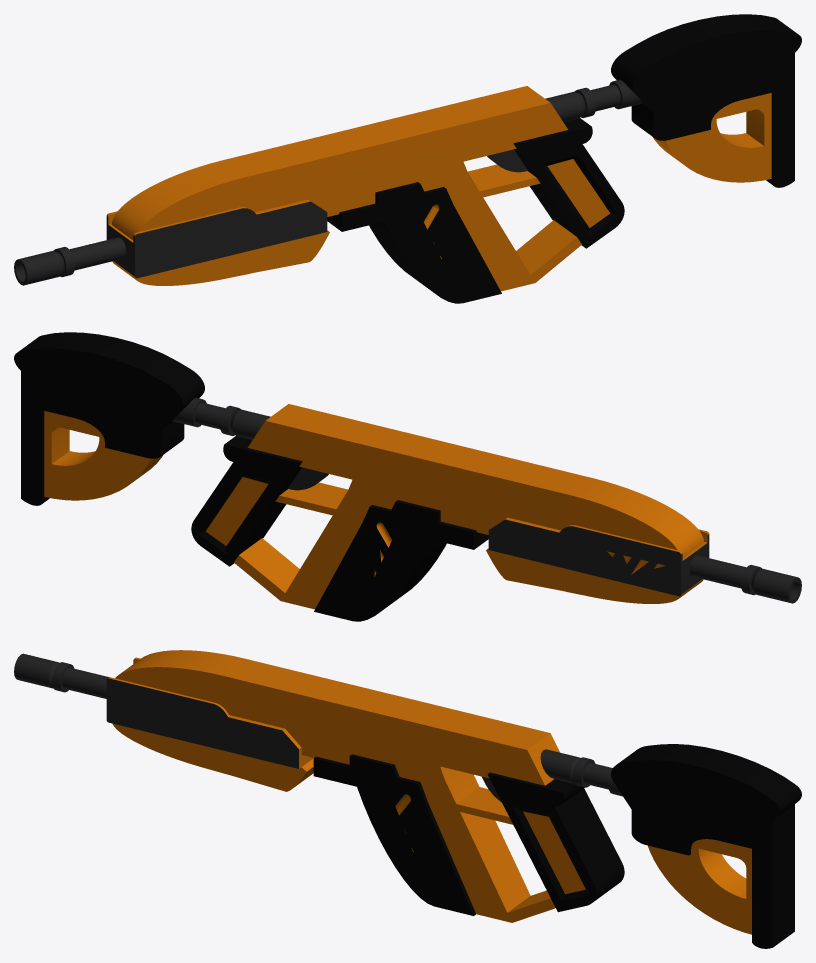
Rendered from Assault-Rifle.fbx.
3 renders of one model, top to bottom at view 1: azimuth 30°, elevation 25°; view 2: azimuth 150°, elevation 25°; view 3: azimuth 330°, elevation 25°, orthographic.
Visible parts, largest first — view 1: Assault Rifle; view 2: Assault Rifle; view 3: Assault Rifle.
Boxes of the visible parts, box(x1,y1,x2,y2) form: Assault Rifle: box(14, 14, 801, 303); Assault Rifle: box(14, 332, 801, 621); Assault Rifle: box(14, 650, 801, 948).
Size of the model in its own units: 78.43 by 19.58 by 5.
